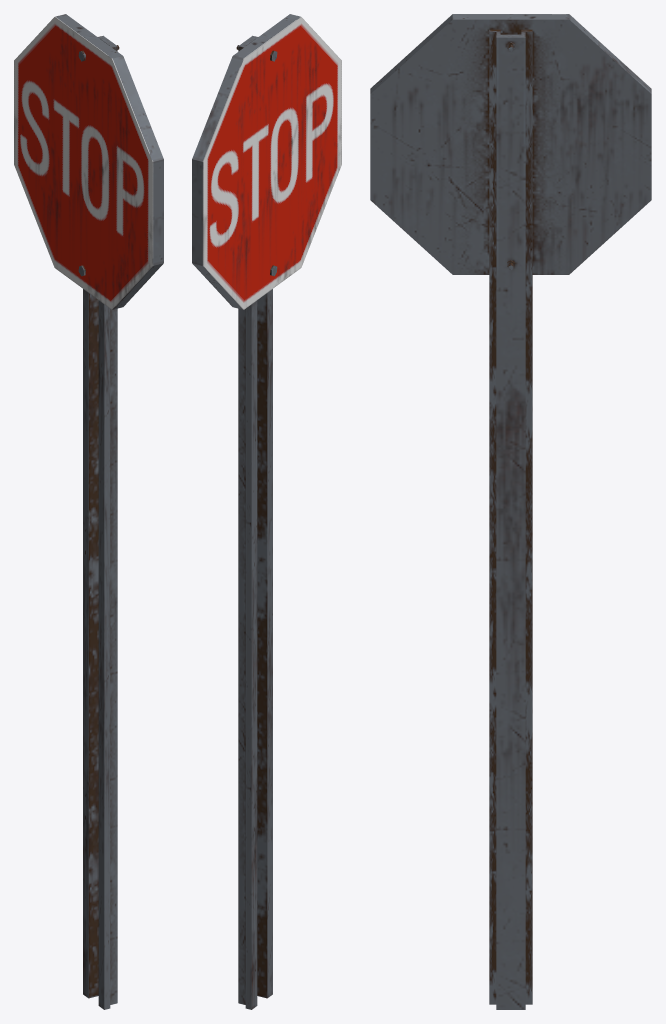
Rendered from stop sign.glb.
3 views of the same model, side by side, from view 1: azimuth 30°, elevation 25°; view 2: azimuth 150°, elevation 25°; view 3: azimuth 270°, elevation 25° (orthographic).
Parts seen in each view (by area): view 1: mesh; view 2: mesh; view 3: mesh.
Part boxes in pixels (box(x1,y1,x2,y2)): mesh: box(14, 14, 163, 1009); mesh: box(192, 14, 341, 1009); mesh: box(370, 14, 651, 1009).
Size of the model in its own units: 0.0604 by 1.52 by 0.3958.
Materials: 1 (1 with a texture image).
